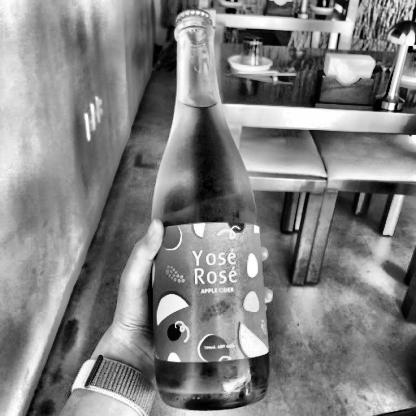yoserose: (148, 225, 270, 362)
